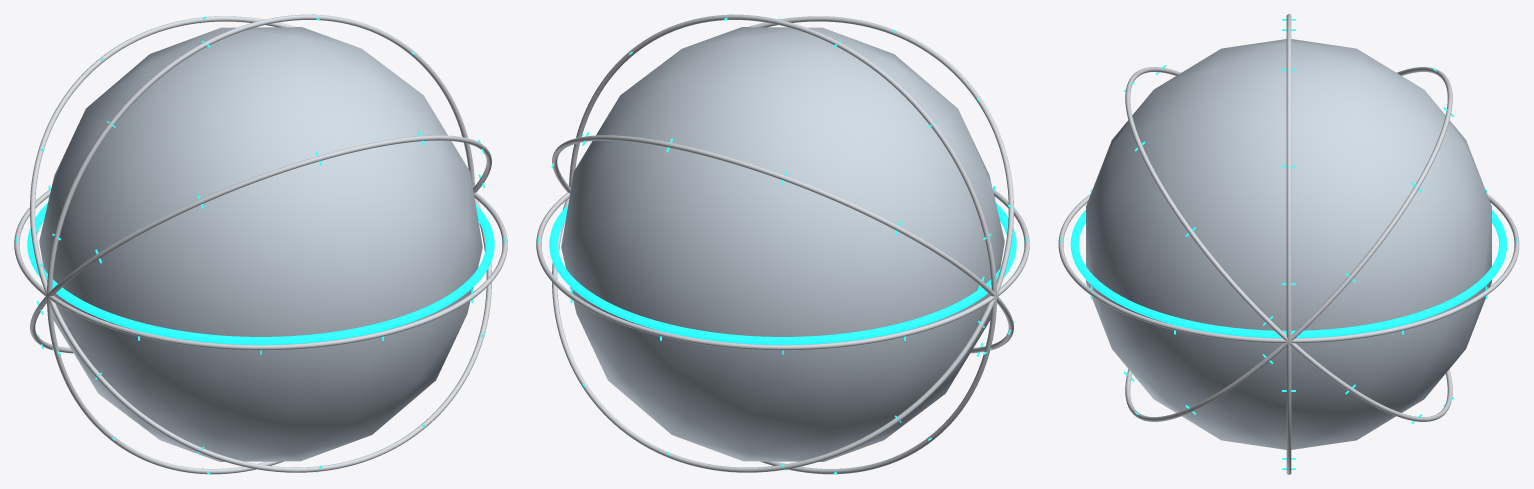
File: securityCore.glb
3 views of the same model, side by side, from view 1: azimuth 30°, elevation 25°; view 2: azimuth 150°, elevation 25°; view 3: azimuth 270°, elevation 25° (orthographic). The views are drawn at different scales.
Visible parts, largest first — view 1: CrystalSphere, GeoRing1, GeoRing2, EnergyPulse, GeoRing0, GeoRing3, AISecurityCore; view 2: CrystalSphere, GeoRing3, GeoRing2, EnergyPulse, GeoRing0, GeoRing1, AISecurityCore; view 3: CrystalSphere, EnergyPulse, GeoRing0, GeoRing1, GeoRing3, GeoRing2, AISecurityCore.
Boxes of the visible parts, x1,y1,x2,y2 form: CrystalSphere: [39, 27, 482, 461]; GeoRing1: [30, 16, 491, 472]; GeoRing2: [47, 14, 474, 474]; EnergyPulse: [27, 203, 494, 344]; GeoRing0: [14, 189, 507, 350]; GeoRing3: [30, 135, 491, 353]; AISecurityCore: [16, 14, 505, 474]; CrystalSphere: [561, 27, 1004, 461]; GeoRing3: [552, 16, 1013, 472]; GeoRing2: [569, 14, 996, 474]; EnergyPulse: [549, 203, 1016, 344]; GeoRing0: [536, 189, 1029, 350]; GeoRing1: [552, 135, 1013, 353]; AISecurityCore: [538, 14, 1027, 474]; CrystalSphere: [1086, 39, 1491, 449]; EnergyPulse: [1070, 210, 1507, 338]; GeoRing0: [1058, 194, 1519, 343]; GeoRing1: [1125, 67, 1452, 421]; GeoRing3: [1125, 67, 1452, 421]; GeoRing2: [1286, 14, 1291, 474]; AISecurityCore: [1060, 19, 1517, 469].
Bounding box in the file's own units: 3.34 × 3.34 × 3.34.
